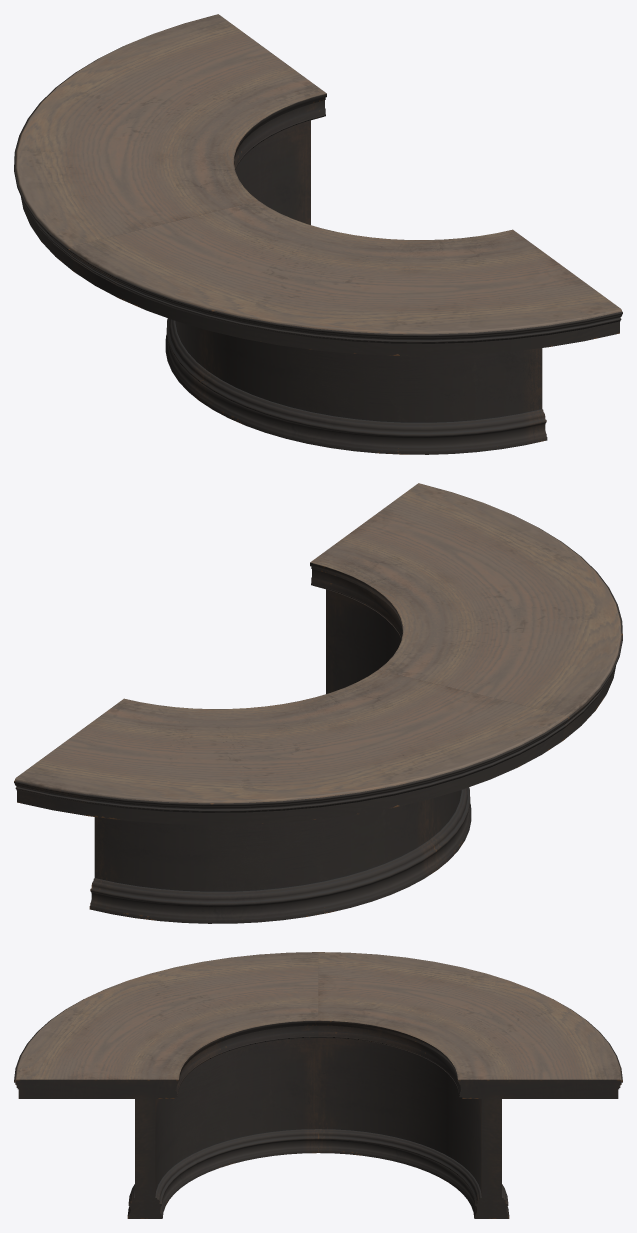
The model's file is SM_TableATopRound.fbx.
3 views of the same model, one above another, from view 1: azimuth 30°, elevation 25°; view 2: azimuth 150°, elevation 25°; view 3: azimuth 270°, elevation 25° (orthographic). The views are drawn at different scales.
Parts seen in each view (by area): view 1: SM_TableATopRound_LOD0; view 2: SM_TableATopRound_LOD0; view 3: SM_TableATopRound_LOD0.
Part boxes in pixels (x1,y1,x2,y2): SM_TableATopRound_LOD0: (14, 14, 622, 454); SM_TableATopRound_LOD0: (14, 483, 622, 923); SM_TableATopRound_LOD0: (14, 952, 622, 1218).
Bounding box in the file's own units: 178 × 357 × 90.
1 material, 1 textured.
